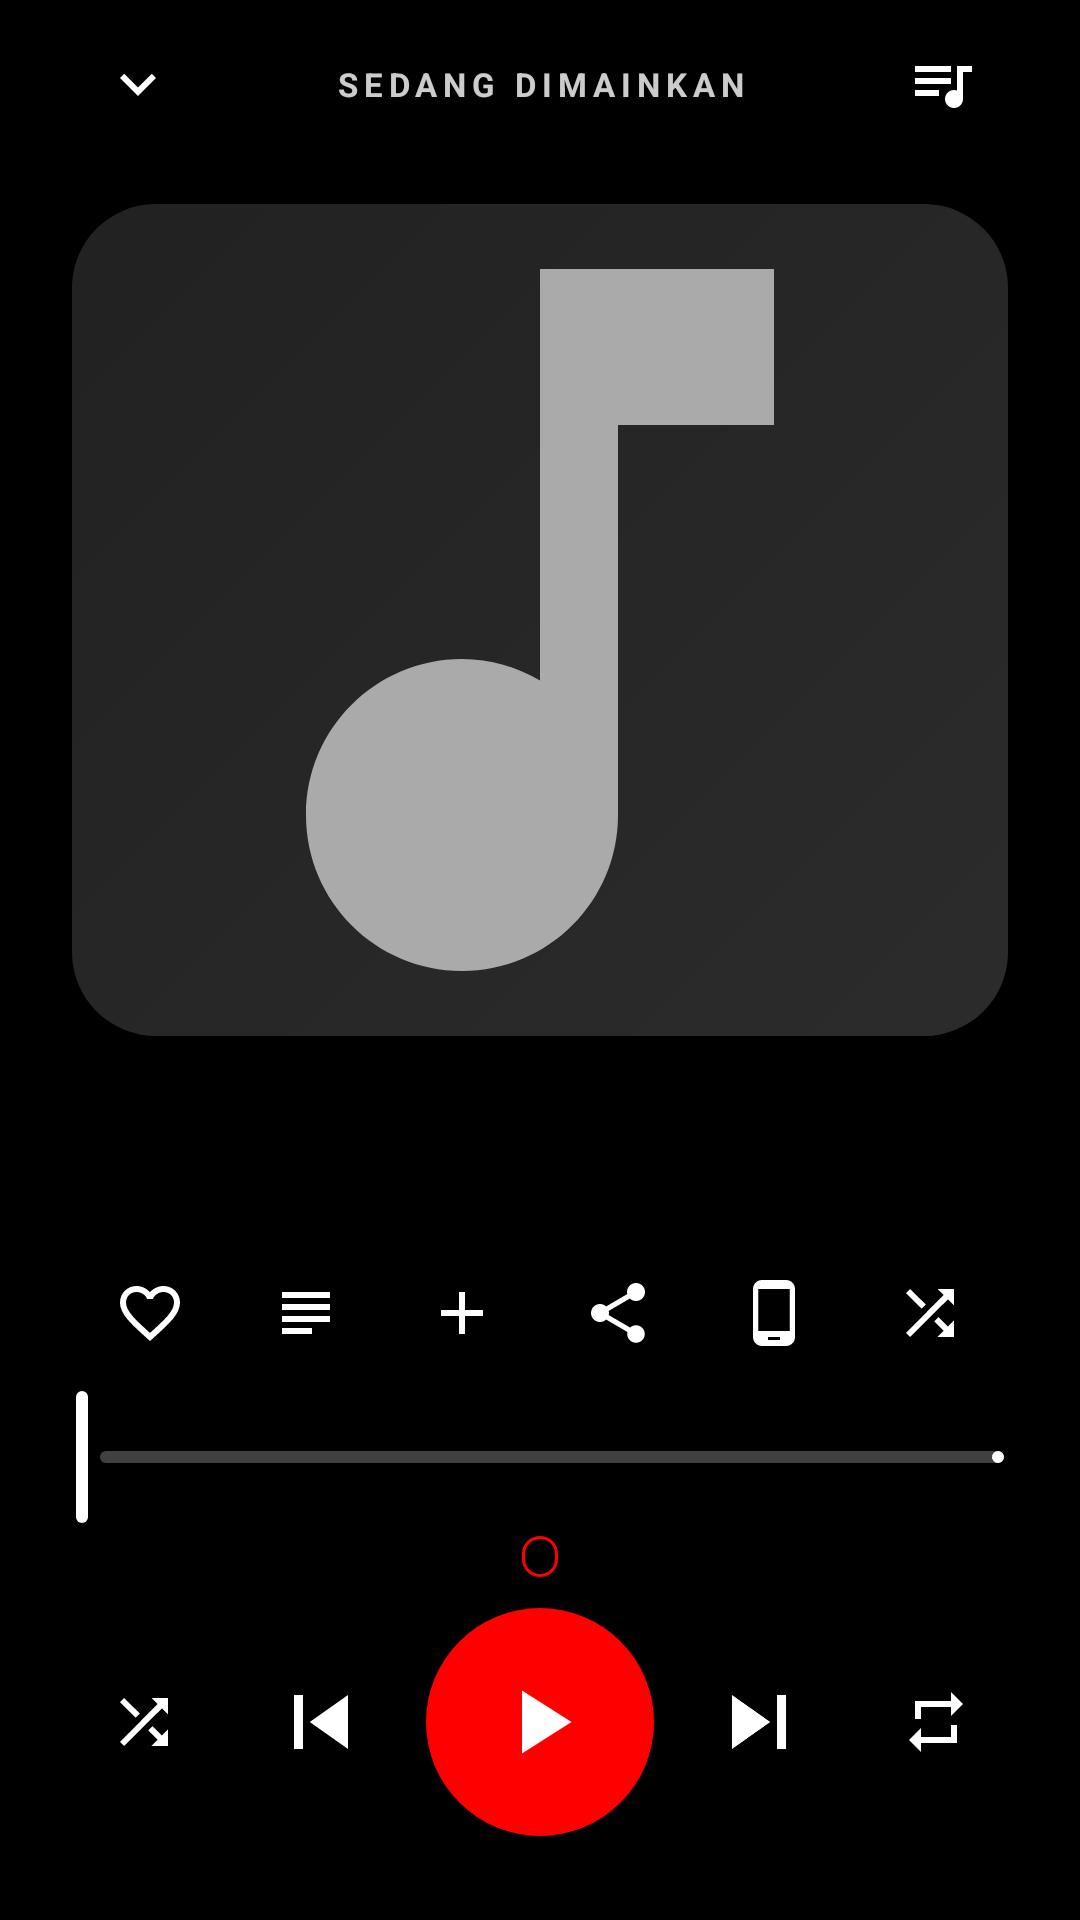

Named icons in this screenshot (1080x1920) and their centers, (x,y):
add: (462,1313)
down: (138,85)
heart: (150,1313)
lyrics: (306,1313)
next: (759,1722)
phone: (774,1313)
play: (540,1722)
prev: (321,1722)
queue: (943,87)
repeat: (936,1722)
share: (618,1313)
shuffle: (930,1313), (144,1722)
